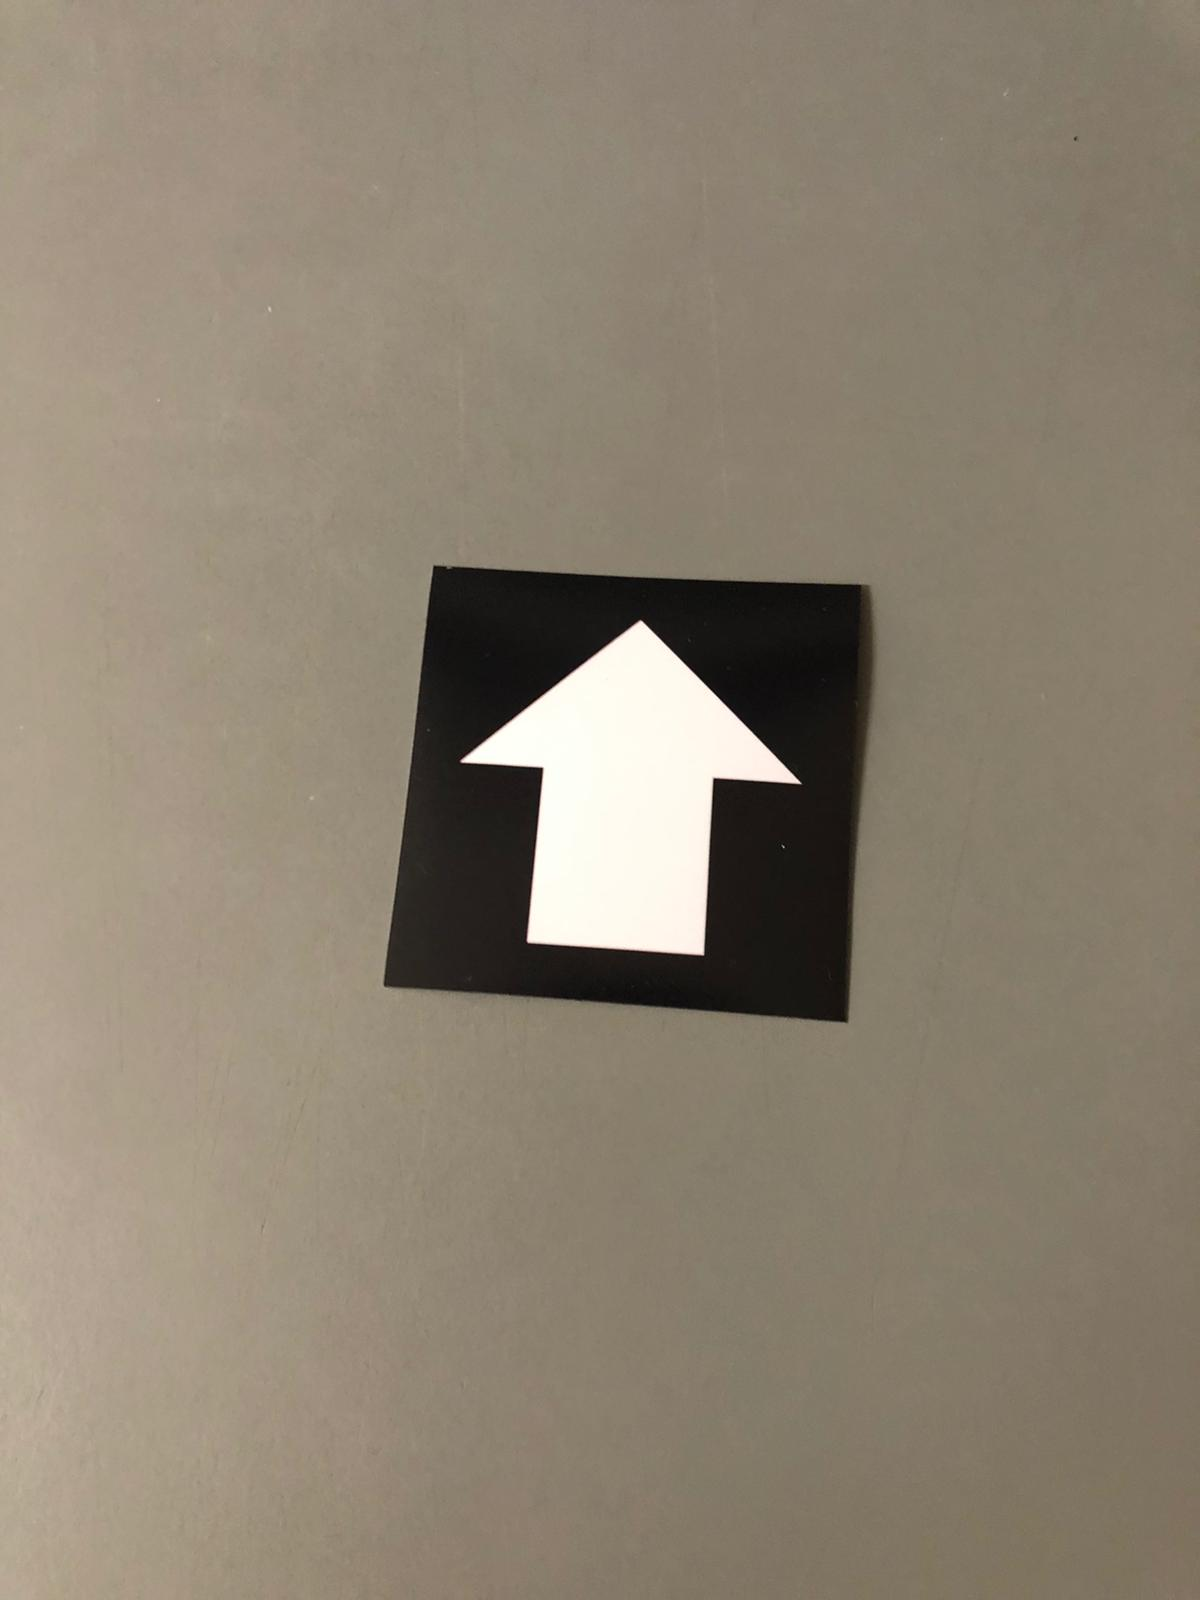Top Arrow: (431, 585, 831, 1002)
